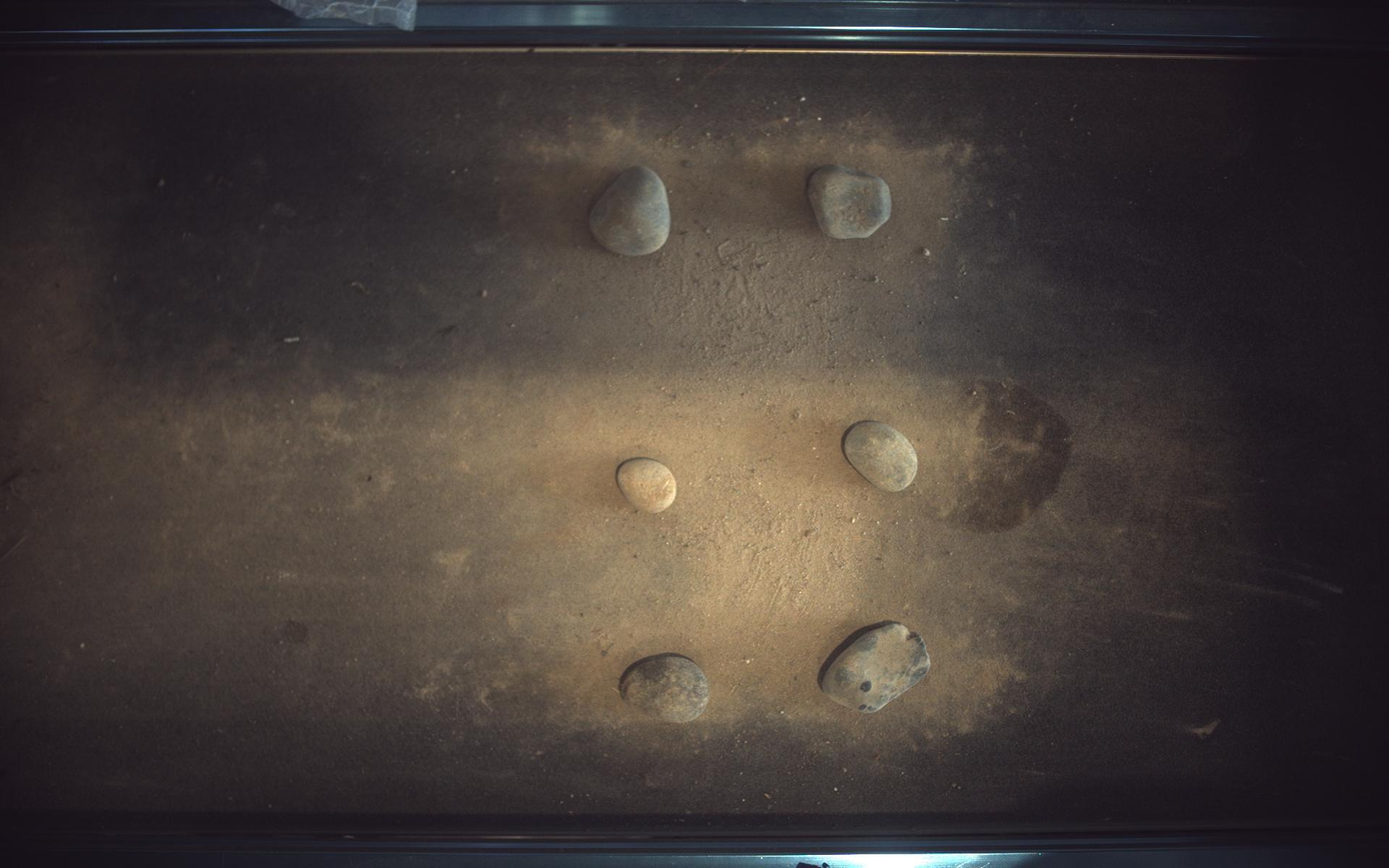stone: (824, 624, 932, 714), (590, 165, 671, 255), (619, 654, 710, 724), (809, 164, 891, 238), (844, 421, 919, 492), (618, 458, 678, 514)
